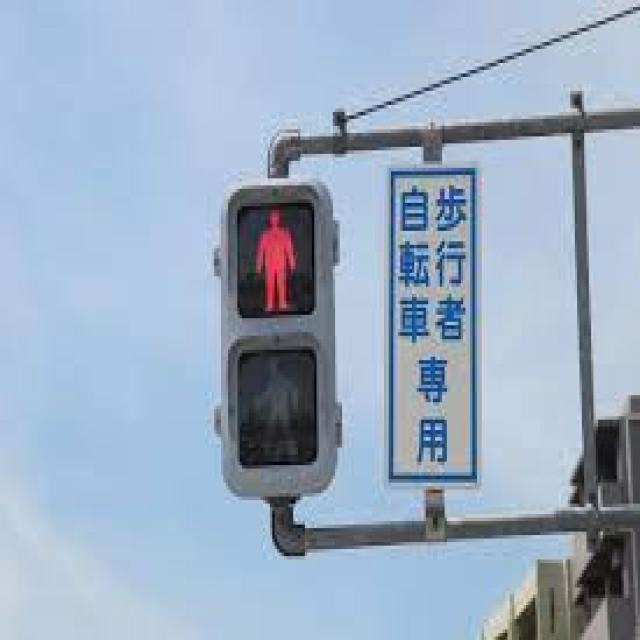trafficlight: (207, 171, 342, 493)
